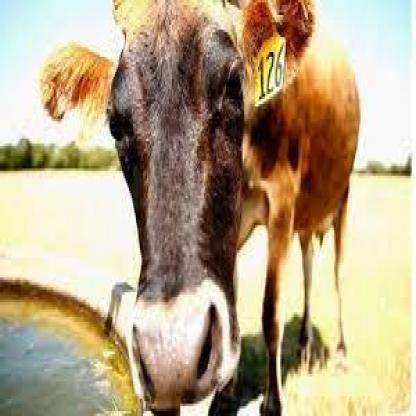cow: (44, 0, 360, 416)
